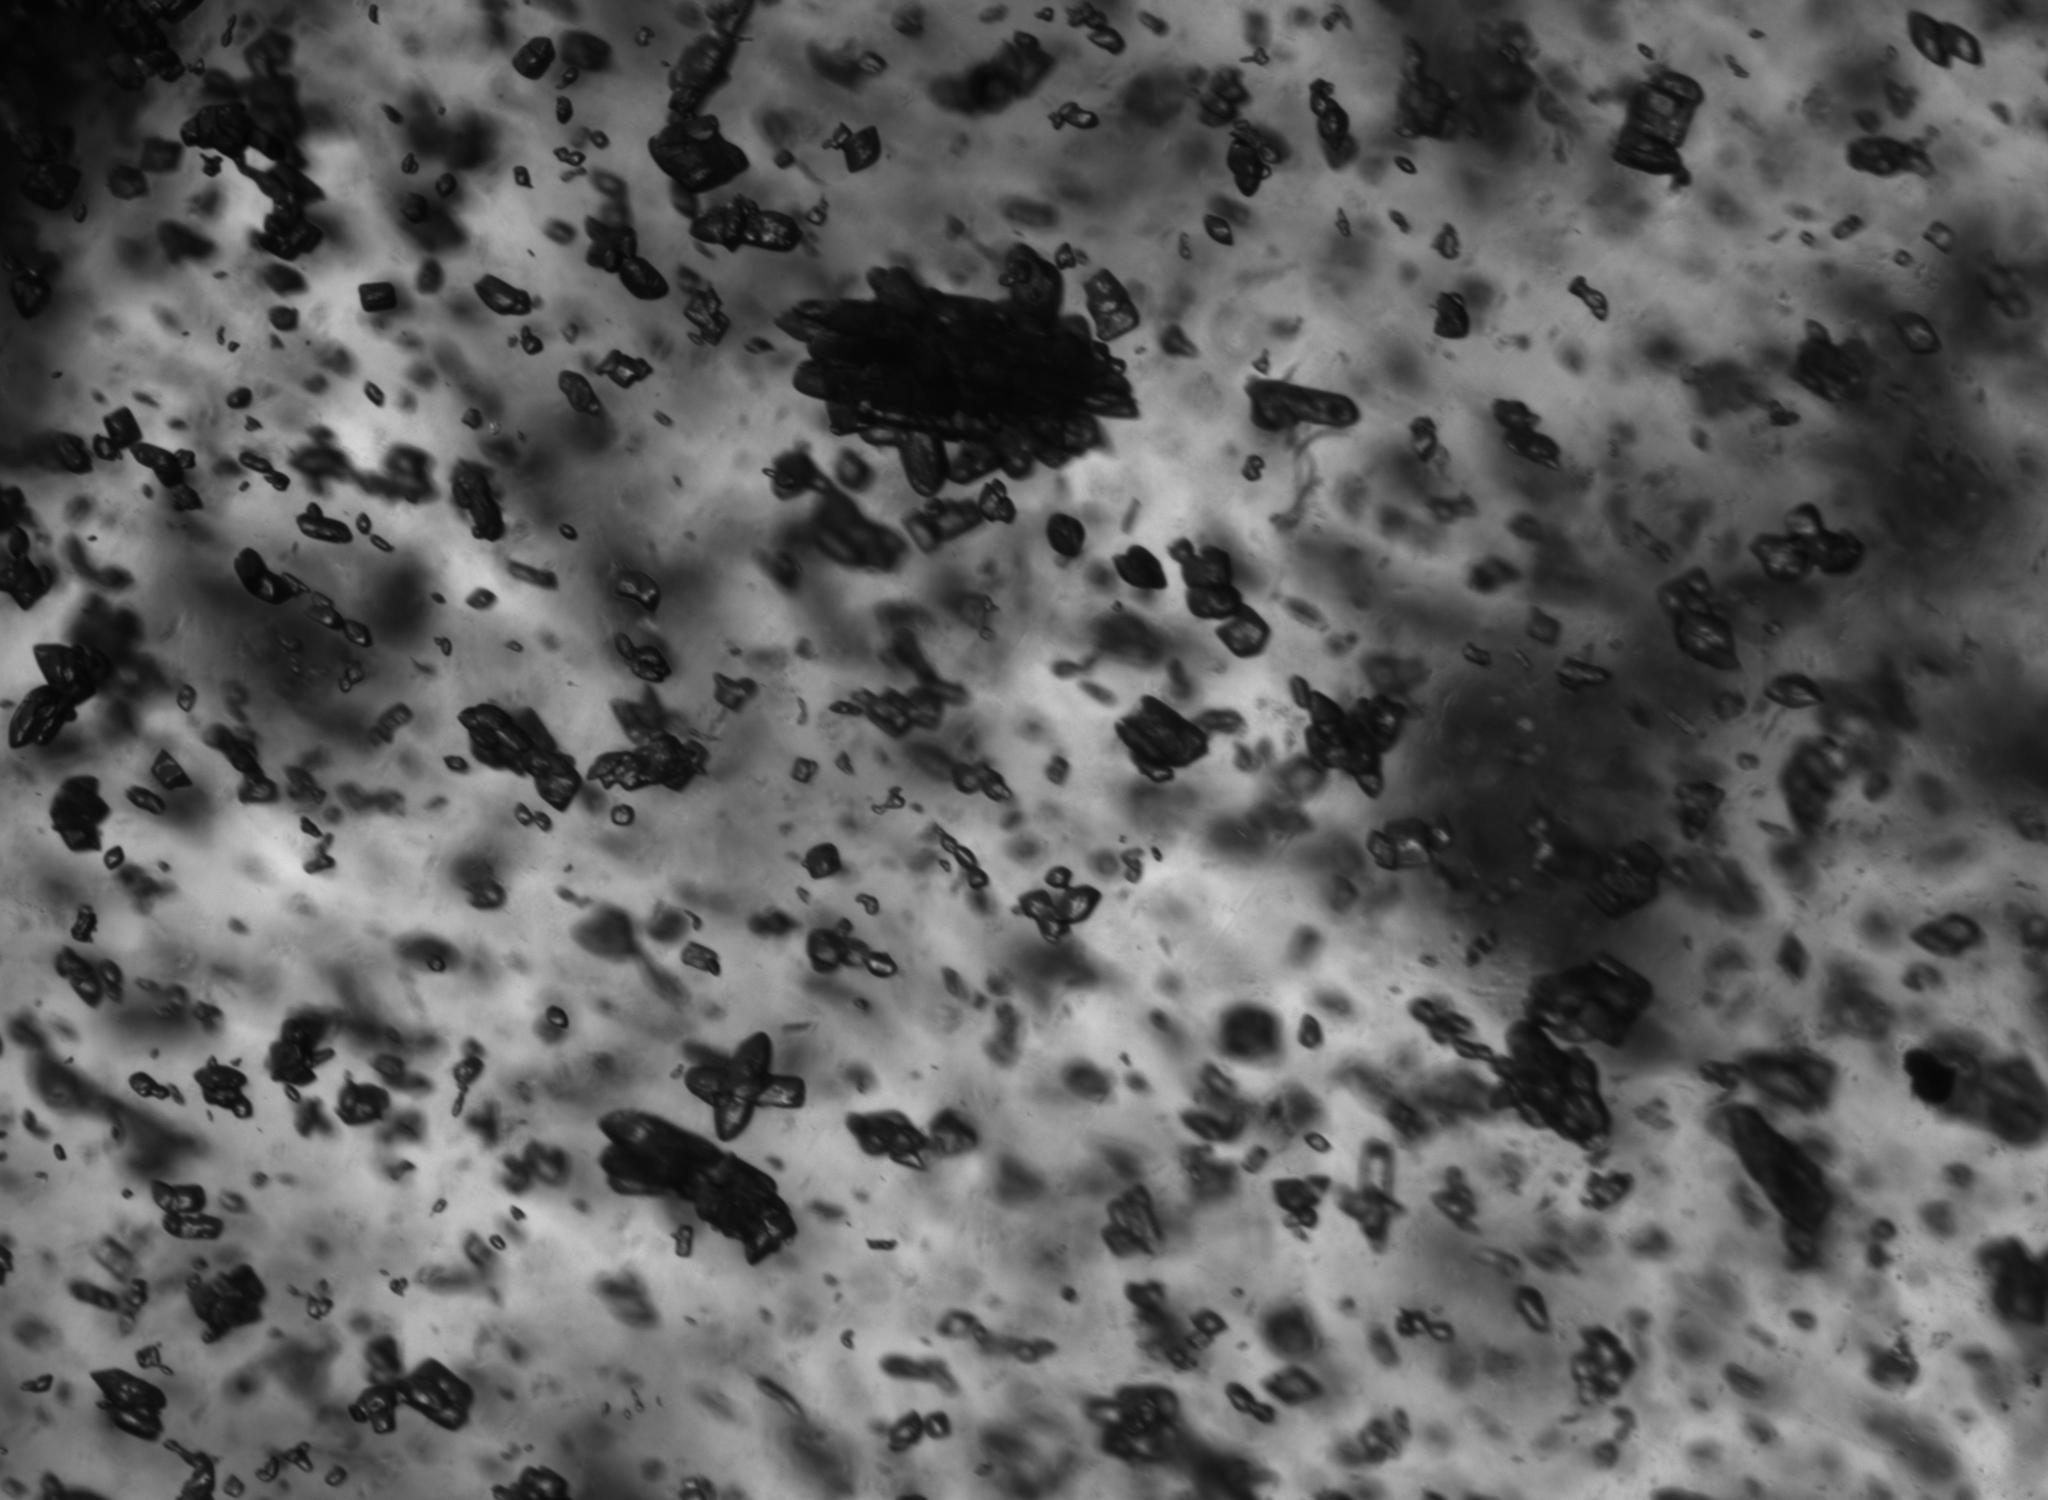crystal: (784, 248, 1137, 498), (601, 1110, 797, 1263), (186, 45, 323, 259), (650, 0, 755, 197), (1720, 1104, 1833, 1268), (1498, 1018, 1609, 1147), (1291, 678, 1407, 795), (458, 703, 584, 810), (684, 1032, 805, 1141), (1526, 956, 1654, 1045), (8, 643, 113, 748), (1612, 68, 1703, 185), (348, 1354, 474, 1433), (1752, 504, 1864, 579), (1115, 695, 1208, 783), (649, 116, 747, 194), (1089, 1385, 1188, 1463), (906, 482, 1016, 550), (1334, 1141, 1402, 1249), (1663, 571, 1738, 670), (588, 730, 708, 791), (587, 220, 668, 299), (0, 487, 52, 608), (1016, 867, 1100, 942), (692, 196, 803, 251), (1245, 377, 1360, 431), (188, 1265, 266, 1343), (832, 686, 946, 738), (1170, 541, 1242, 620), (1587, 845, 1663, 918), (91, 1368, 167, 1440), (806, 919, 898, 978), (1409, 997, 1493, 1059), (210, 724, 275, 802), (1569, 1327, 1636, 1401), (848, 1110, 932, 1169), (269, 1013, 331, 1090), (1367, 816, 1455, 870), (1102, 1183, 1164, 1257), (49, 776, 110, 851), (1226, 121, 1286, 196), (1493, 399, 1560, 466), (450, 461, 506, 541), (1906, 11, 1983, 68), (930, 822, 991, 892), (151, 1180, 223, 1239), (1337, 1408, 1409, 1467), (1309, 80, 1356, 167), (1083, 270, 1140, 342), (234, 547, 302, 604), (56, 946, 119, 1007), (194, 1056, 253, 1118), (1200, 1063, 1248, 1139), (1848, 134, 1929, 177), (310, 592, 372, 647), (1911, 911, 1983, 956), (450, 853, 506, 910), (1067, 0, 1126, 54), (1903, 1048, 1957, 1107), (1272, 1177, 1329, 1230), (886, 1408, 952, 1452), (684, 283, 731, 345), (129, 442, 192, 488), (614, 633, 671, 684), (1674, 781, 1724, 840), (337, 1075, 390, 1126), (1216, 609, 1269, 657), (474, 274, 534, 315), (951, 762, 1013, 802), (452, 1040, 485, 1113), (830, 124, 881, 172), (1113, 546, 1167, 590), (399, 934, 460, 973), (296, 503, 353, 544), (1263, 1365, 1321, 1405), (1762, 673, 1824, 709), (243, 27, 294, 72), (91, 409, 134, 461), (595, 350, 652, 388), (256, 1443, 313, 1481), (1889, 312, 1940, 355), (560, 371, 604, 417), (240, 450, 289, 492), (1394, 1308, 1455, 1341), (614, 569, 660, 612), (1226, 1382, 1275, 1422), (1555, 655, 1612, 689), (1568, 275, 1609, 321), (167, 997, 223, 1031), (512, 37, 555, 80), (149, 749, 192, 791), (1046, 512, 1084, 558), (1433, 293, 1471, 339), (1514, 1285, 1550, 1333), (714, 673, 757, 711), (103, 407, 142, 449), (127, 1072, 181, 1101), (506, 558, 557, 589), (1048, 102, 1100, 130), (355, 514, 393, 550), (1409, 417, 1439, 463), (681, 942, 720, 977), (803, 843, 843, 878), (358, 282, 399, 313), (126, 786, 165, 814), (1189, 1309, 1226, 1339), (1202, 213, 1234, 245), (70, 905, 97, 942), (515, 803, 552, 830), (1922, 221, 1953, 251), (1297, 1013, 1323, 1048), (135, 1343, 165, 1370), (1832, 213, 1864, 239), (1121, 848, 1143, 883), (269, 305, 299, 331), (305, 1295, 334, 1320), (790, 757, 819, 783), (518, 326, 544, 355), (673, 1223, 693, 1258), (466, 587, 498, 609), (223, 1473, 248, 1500), (340, 663, 364, 692), (876, 787, 905, 811), (555, 146, 585, 169), (1461, 644, 1491, 666), (175, 682, 196, 714), (21, 1373, 52, 1393), (544, 1005, 569, 1031), (854, 892, 881, 916), (226, 387, 253, 409), (609, 803, 636, 826), (1242, 455, 1264, 482), (436, 172, 458, 199), (1304, 1133, 1332, 1153), (363, 382, 385, 407), (1056, 242, 1075, 270), (103, 846, 124, 870), (301, 816, 324, 837), (1334, 207, 1350, 237), (202, 154, 223, 177), (585, 129, 609, 148), (444, 756, 469, 773), (487, 1233, 509, 1252), (1394, 156, 1417, 175), (463, 407, 482, 429), (835, 751, 854, 773), (557, 95, 571, 124), (514, 165, 531, 188), (1736, 752, 1759, 770), (429, 1196, 448, 1215), (401, 153, 418, 173), (434, 636, 452, 655), (560, 523, 579, 541), (329, 1460, 345, 1479), (52, 1142, 67, 1161), (1255, 46, 1269, 65), (1638, 43, 1654, 59)
